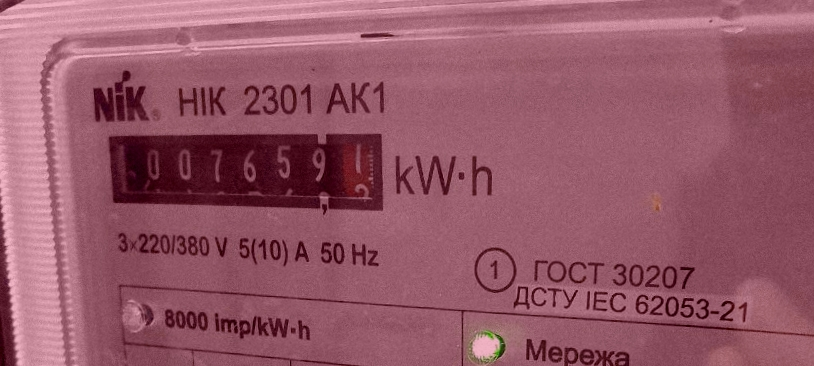0: (174, 144, 195, 184), (143, 145, 164, 183)
1: (347, 139, 367, 177)
5: (272, 141, 295, 182)
6: (238, 144, 261, 186)
7: (205, 144, 228, 184)
9: (308, 144, 330, 185)
screen: (97, 121, 392, 220)
